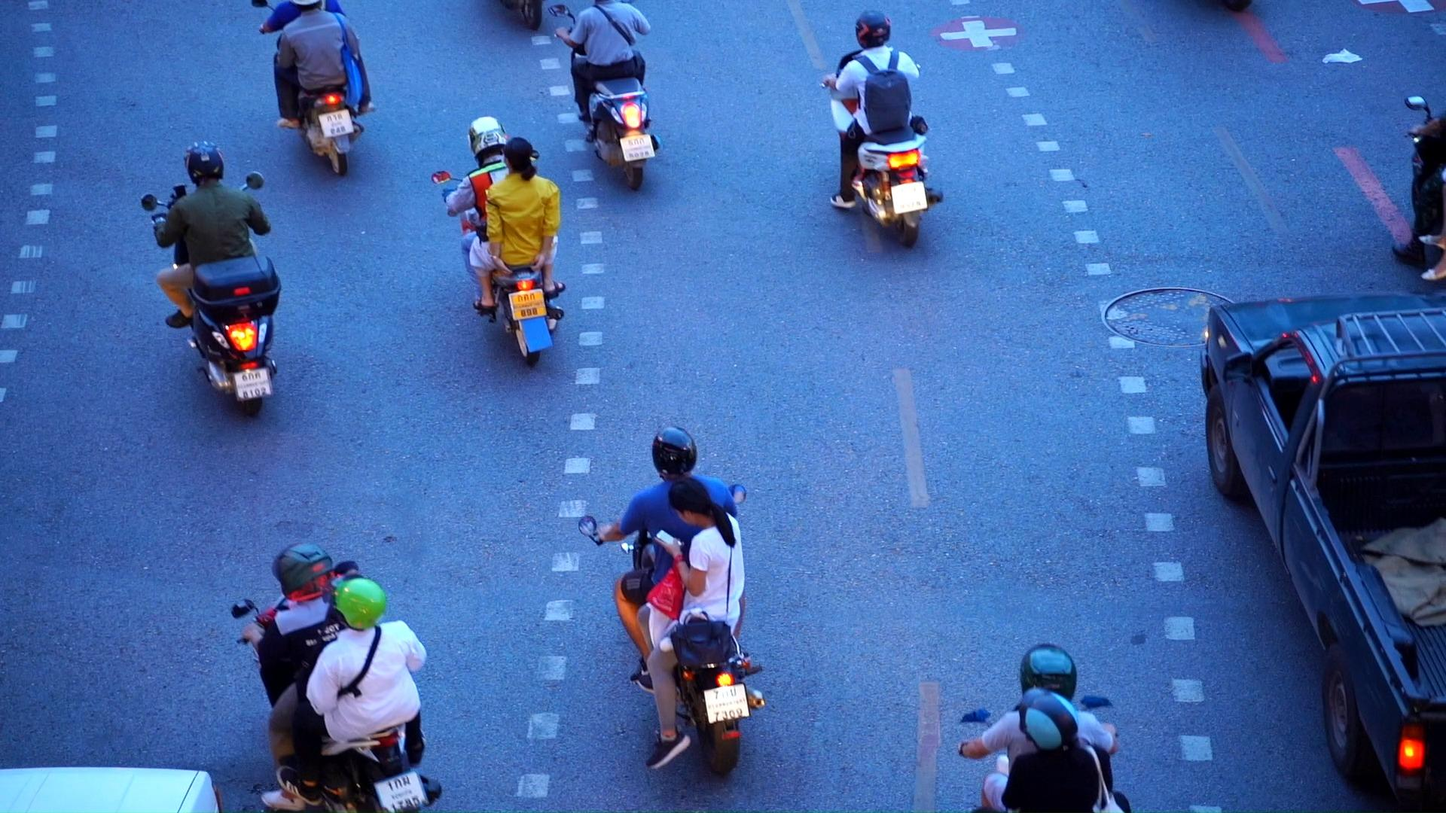driver: (577, 426, 768, 777), (232, 541, 442, 813), (141, 140, 283, 418), (432, 116, 566, 365), (957, 642, 1131, 813), (821, 10, 943, 249), (547, 0, 664, 191), (251, 0, 376, 177), (1392, 94, 1446, 281)
helmet: (1018, 687, 1079, 754), (321, 572, 387, 633), (272, 542, 333, 602), (1020, 643, 1078, 703), (652, 426, 698, 478), (467, 116, 508, 162), (183, 140, 225, 184), (855, 10, 891, 49)
no-helmet: (668, 478, 734, 529), (501, 136, 537, 181)
